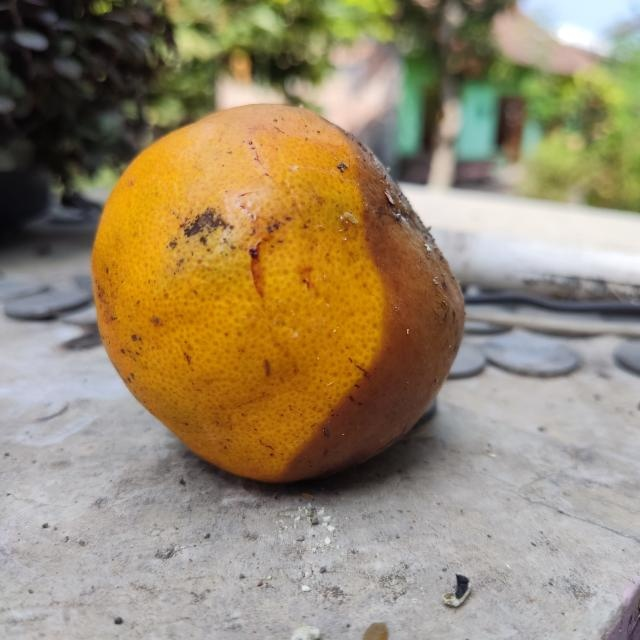agrume: (83, 99, 470, 481)
